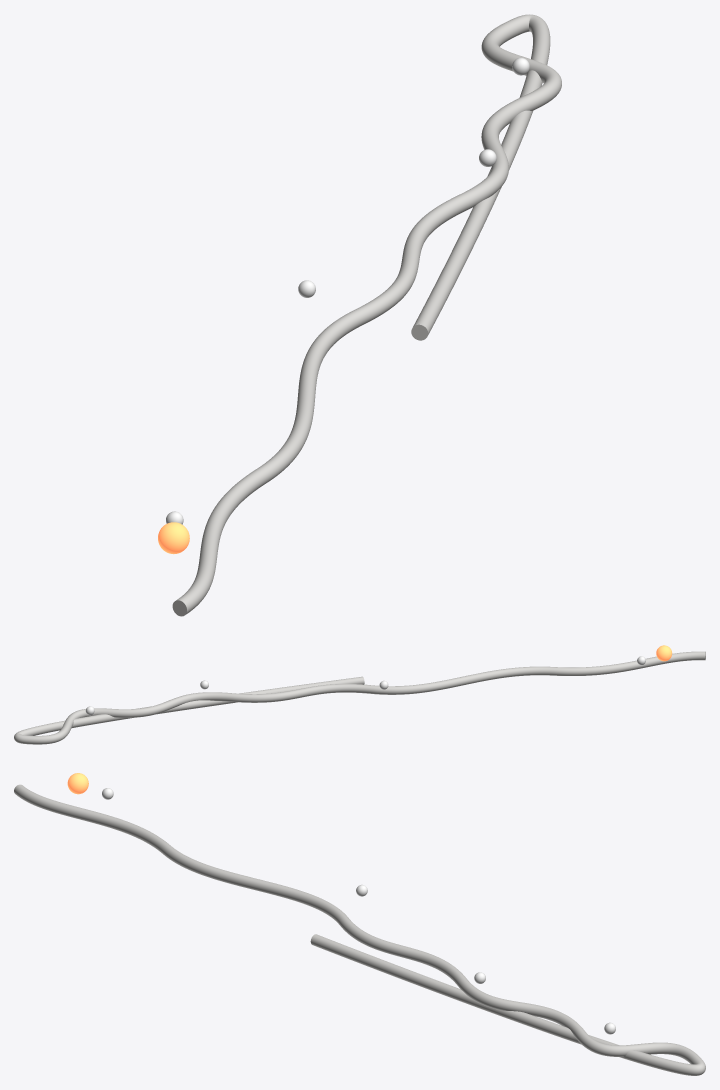
Rendered from journey_ribbon.glb.
3 renders of one model, top to bottom at view 1: azimuth 30°, elevation 25°; view 2: azimuth 150°, elevation 25°; view 3: azimuth 270°, elevation 25°, orthographic. The views are drawn at different scales.
Parts seen in each view (by area): view 1: RibbonPath; view 2: RibbonPath, JourneyBall; view 3: RibbonPath.
Boxes of the visible parts, bbox=[...] form: RibbonPath: bbox=[172, 14, 561, 616]; RibbonPath: bbox=[14, 651, 705, 744]; JourneyBall: bbox=[656, 645, 672, 661]; RibbonPath: bbox=[14, 784, 705, 1075].
Bounding box in the file's own units: 11.36 × 0.6477 × 11.71.
